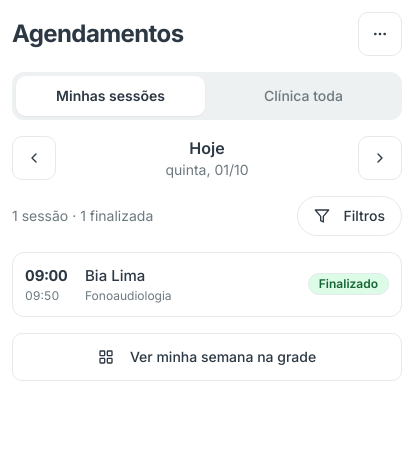
Test case: no celular › o terapeuta abre em "Minhas sessões" e vê só as dele; em "Clínica toda", as de todos
This screenshot has width=414, height=470.
Check: the text "Bia Lima" is shown, box [85,266,145,285]
Check: the text "Theo Martins" is not shown
Click the button "Clínica toda" at [304, 96], box [209,76,398,116]
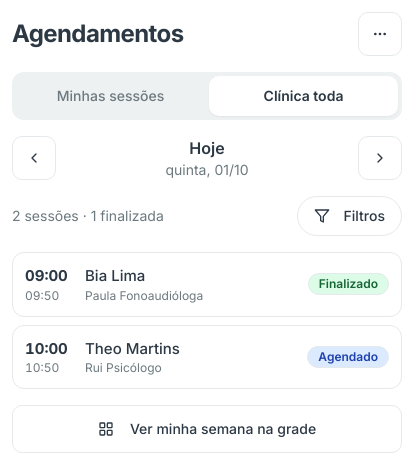
Check: the text "Theo Martins" is shown, box [85,338,180,358]
